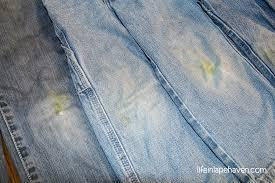earth: (200, 59, 217, 79), (52, 95, 67, 117)
